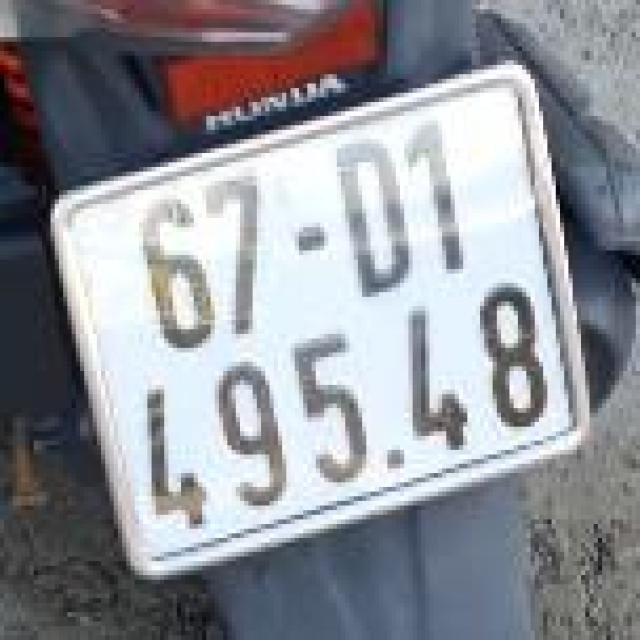1: (398, 115, 475, 288)
4: (116, 377, 225, 549), (378, 295, 478, 467)
5: (284, 319, 383, 495)
6: (126, 189, 228, 365)
7: (197, 167, 295, 345)
8: (461, 271, 559, 444)
9: (202, 351, 306, 522)
D: (326, 127, 425, 309)
